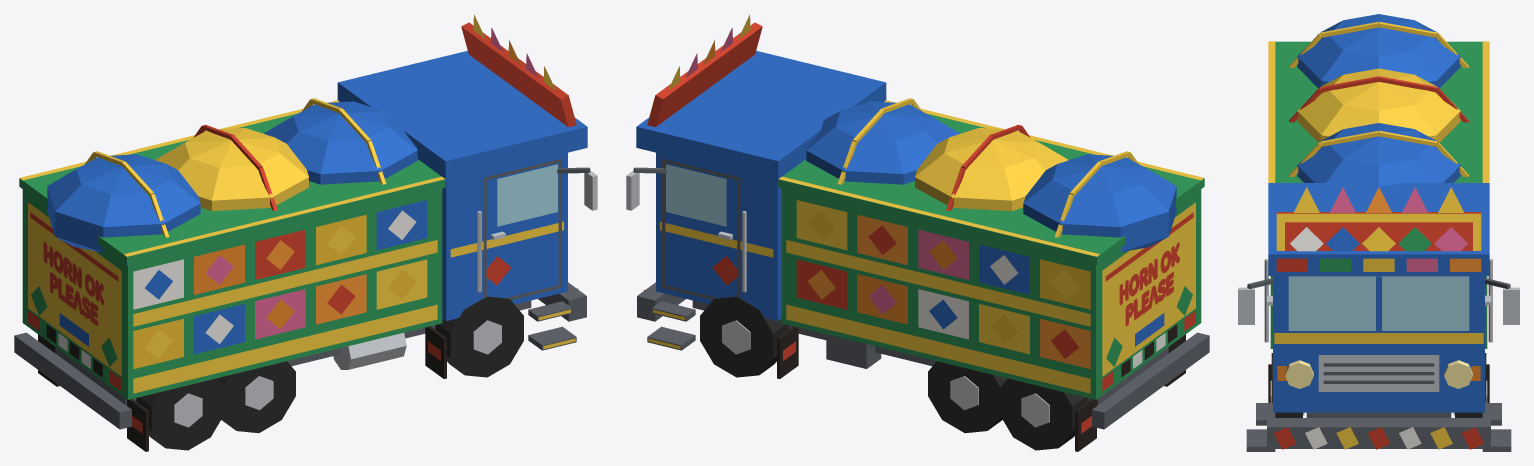
File: truck_green.glb
The picture shows the model from 3 angles, left to right: view 1: azimuth 30°, elevation 25°; view 2: azimuth 150°, elevation 25°; view 3: azimuth 270°, elevation 25°; orthographic projection. The views are drawn at different scales.
Visible parts, largest first — view 1: truck_green; view 2: truck_green; view 3: truck_green.
Part boxes in pixels (x1,y1,x2,y2): truck_green: (14, 14, 597, 451); truck_green: (626, 14, 1209, 451); truck_green: (1238, 14, 1519, 451).
Bounding box in the file's own units: 4.72 × 2.65 × 2.34.
Materials: 1 (1 with a texture image).
